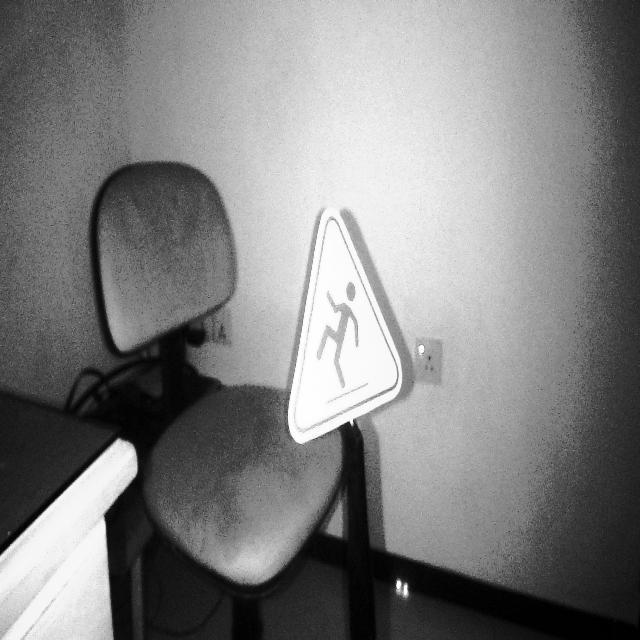Sign: (287, 207, 403, 447)
